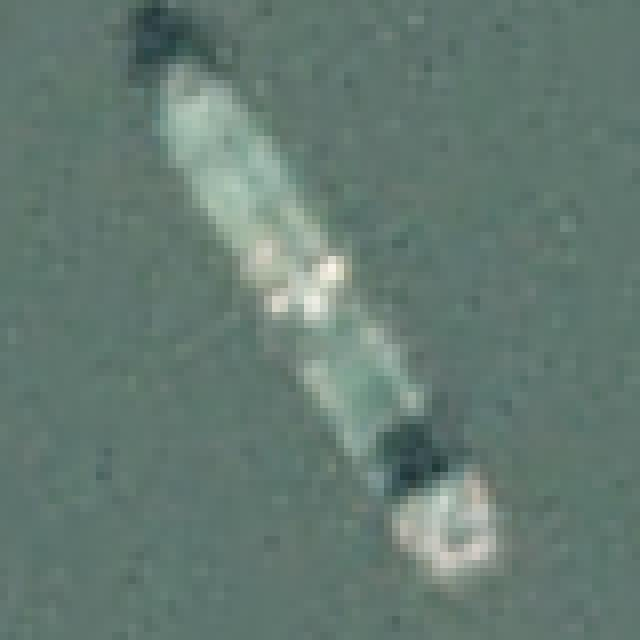ship: (128, 19, 526, 610)
